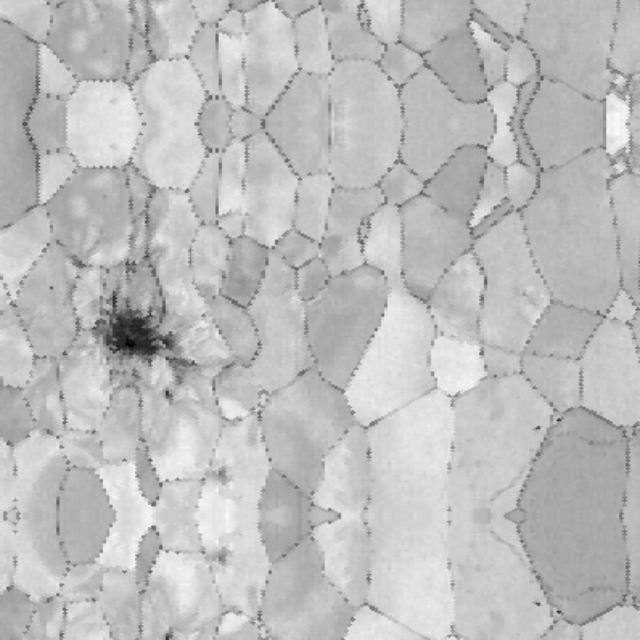good_void: (87, 283, 176, 374), (164, 352, 200, 386), (202, 462, 233, 490), (202, 541, 233, 569), (118, 258, 147, 286), (66, 254, 89, 273), (160, 385, 175, 403), (160, 628, 175, 640), (555, 414, 566, 423), (555, 607, 566, 616), (533, 423, 542, 432), (533, 599, 542, 608), (48, 284, 55, 291)
